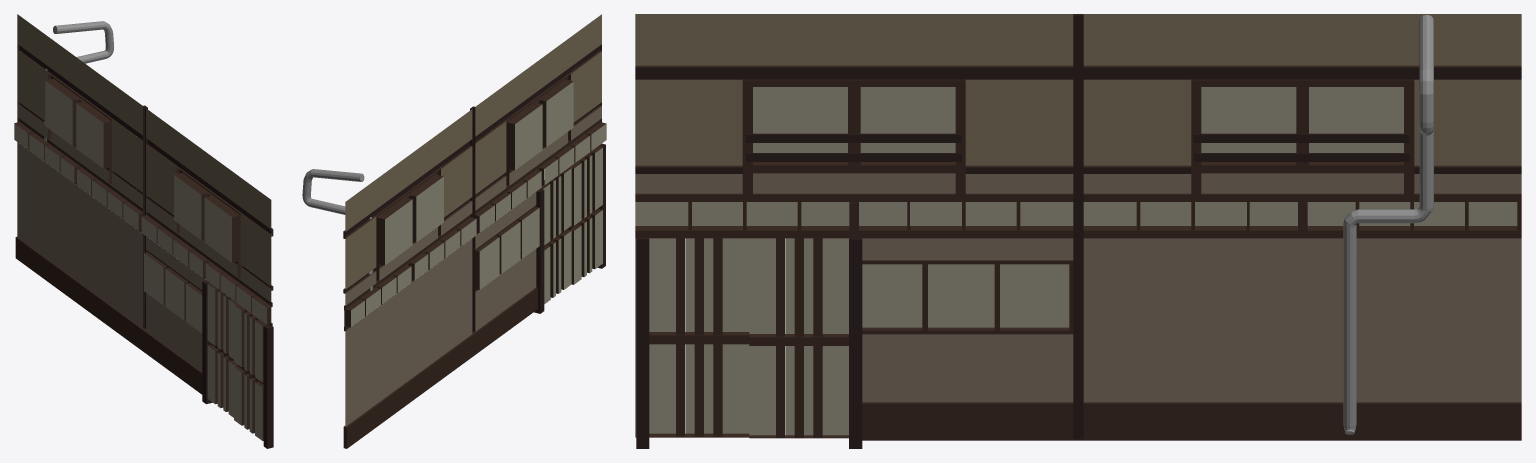
File: set_3_wall_L.glb
3 views of the same model, side by side, from view 1: azimuth 30°, elevation 25°; view 2: azimuth 150°, elevation 25°; view 3: azimuth 270°, elevation 25° (orthographic). The views are drawn at different scales.
Parts seen in each view (by area): view 1: LeftWall3; view 2: LeftWall3; view 3: LeftWall3.
Part boxes in pixels (x1=…): LeftWall3: x1=14, y1=14, x2=273, y2=448; LeftWall3: x1=302, y1=14, x2=606, y2=448; LeftWall3: x1=635, y1=14, x2=1521, y2=448.
Bounding box in the file's own units: 1.91 × 6.19 × 11.26.
